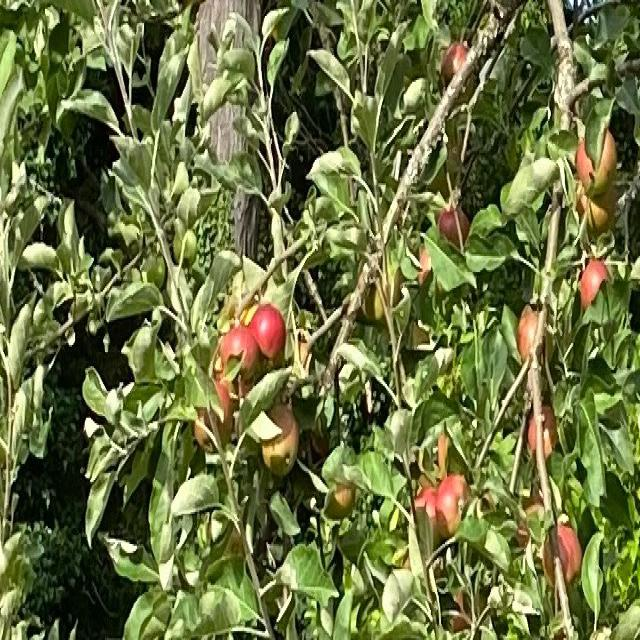Apples: (194, 380, 232, 448), (263, 404, 299, 474), (579, 130, 615, 194), (543, 524, 581, 582), (435, 475, 471, 535), (442, 44, 476, 105), (414, 485, 446, 546), (224, 323, 257, 377), (254, 304, 287, 357), (578, 188, 614, 234), (528, 407, 559, 459), (439, 206, 472, 251), (581, 260, 609, 308), (324, 484, 355, 519)
